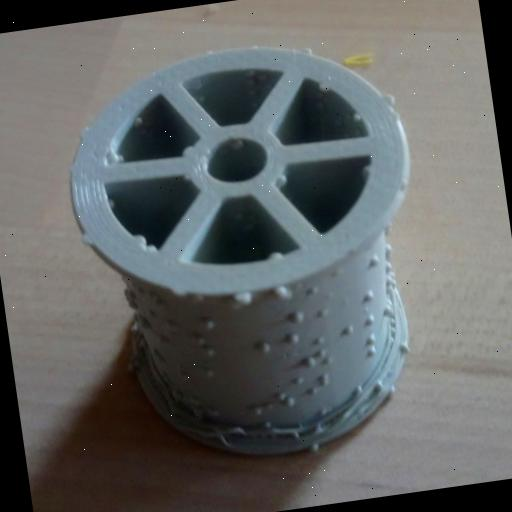blobs: (326, 232, 415, 396), (234, 336, 336, 442), (129, 294, 215, 408), (218, 277, 314, 329), (128, 223, 170, 273), (260, 236, 301, 276), (264, 168, 296, 190)
